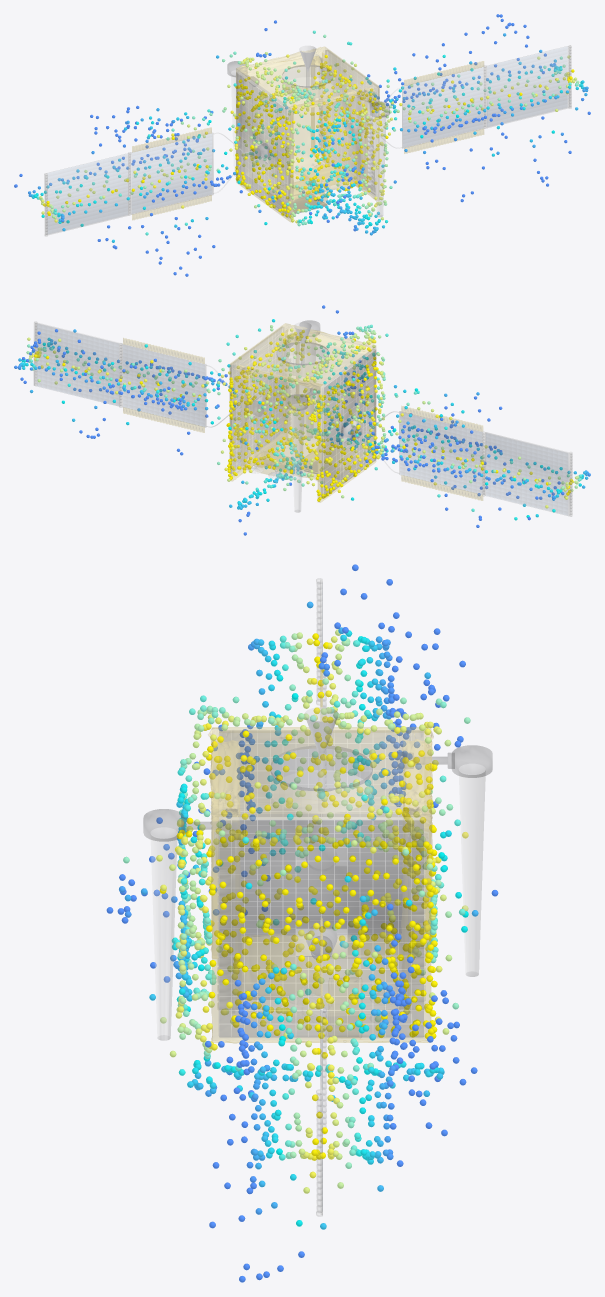
File: pose_check.glb
3 renders of one model, top to bottom at view 1: azimuth 30°, elevation 25°; view 2: azimuth 150°, elevation 25°; view 3: azimuth 270°, elevation 25°, orthographic. The views are drawn at different scales.
Parts seen in each view (by area): view 1: solar, Gaussian points, main, Cylinder; view 2: solar, Gaussian points, main, Cylinder, Cylinder.001; view 3: main, Gaussian points, Cylinder, solar, Cylinder.001, Cone.
Part boxes in pixels (box(x1,y1,x2,y2)): solar: box(44, 45, 571, 236); Gaussian points: box(14, 14, 590, 276); main: box(227, 47, 389, 221); Cylinder: box(282, 65, 332, 98); solar: box(34, 321, 572, 516); Gaussian points: box(14, 305, 590, 535); main: box(229, 320, 376, 512); Cylinder: box(277, 342, 328, 376); Cylinder.001: box(295, 323, 310, 365); main: box(143, 727, 492, 1043); Gaussian points: box(106, 564, 498, 1282); Cylinder: box(270, 746, 372, 813); solar: box(311, 578, 332, 1216); Cylinder.001: box(305, 707, 337, 792); Cone: box(305, 707, 337, 760).
Size of the model in its own units: 9.11 by 3.6 by 2.86.
